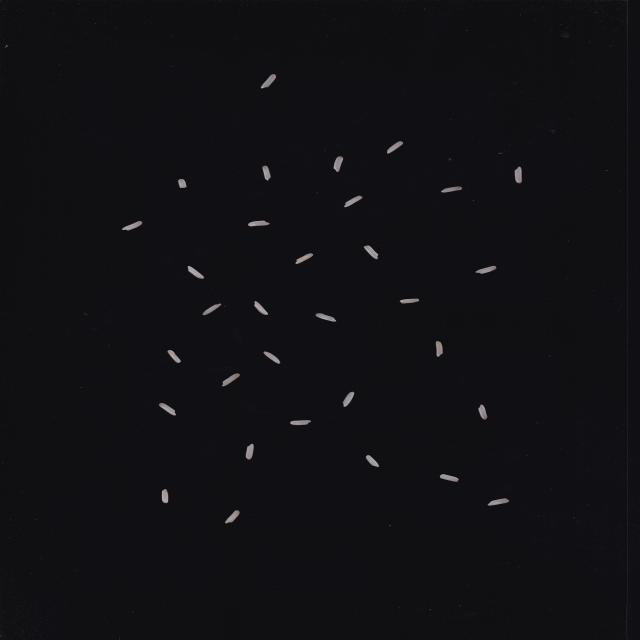Not: (158, 402, 177, 417), (221, 373, 241, 387), (260, 73, 277, 89), (121, 220, 143, 232), (343, 195, 363, 208), (202, 303, 222, 316), (363, 244, 379, 260), (253, 300, 269, 316), (262, 351, 281, 364), (294, 252, 314, 264), (166, 349, 182, 364), (224, 509, 240, 524), (386, 141, 404, 154), (187, 266, 205, 279), (342, 391, 355, 408), (315, 312, 337, 322), (366, 454, 380, 468), (487, 498, 510, 506), (439, 473, 459, 482), (434, 340, 444, 358), (513, 166, 523, 184), (332, 156, 343, 172), (477, 404, 488, 420), (475, 266, 497, 274), (244, 444, 254, 461), (247, 220, 271, 227), (440, 186, 463, 193), (262, 165, 272, 181), (290, 420, 312, 426), (162, 488, 170, 504), (399, 298, 420, 304), (178, 178, 188, 188)
